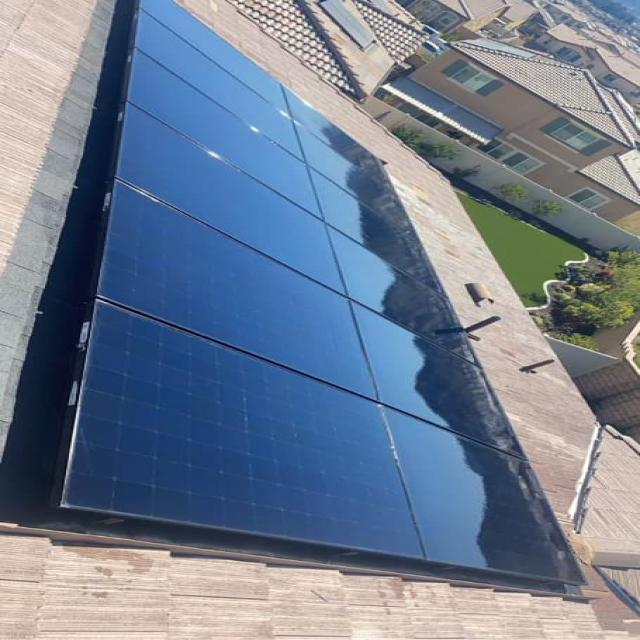clean-solar-panel: (61, 0, 577, 582)
